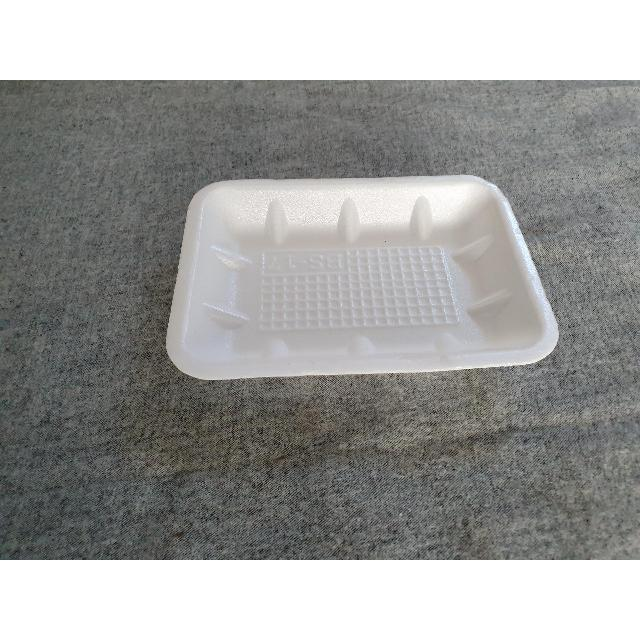Plastico descartable: (166, 175, 559, 384)
